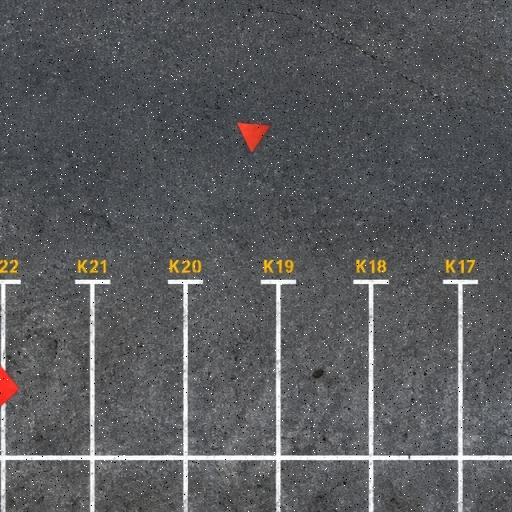RED_SQUARE: (0, 352, 21, 422)
